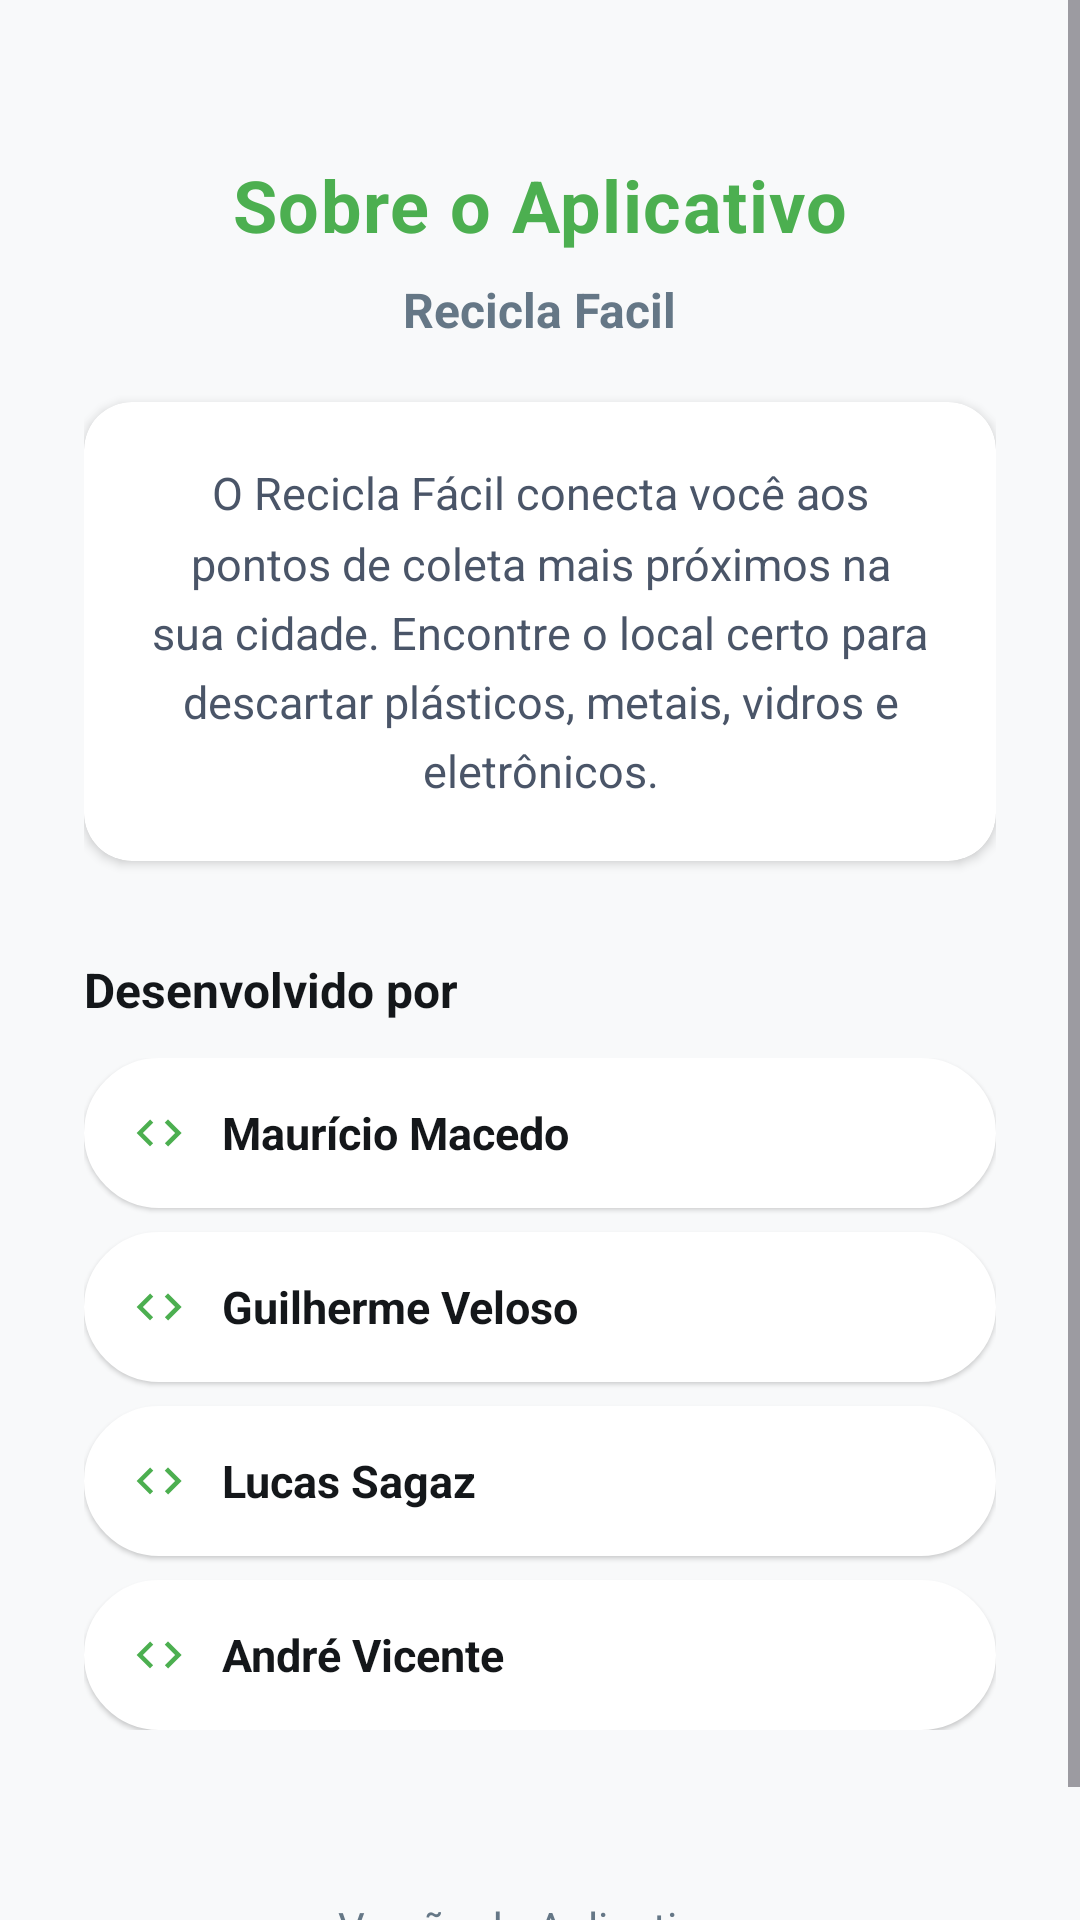

Named icons in this screenshot (1080px×1920px) and their bounding boxes, (x1, y1, x2, y2):
code: (137, 1119, 182, 1147), (137, 1293, 182, 1321), (137, 1467, 182, 1495), (137, 1641, 182, 1669)
